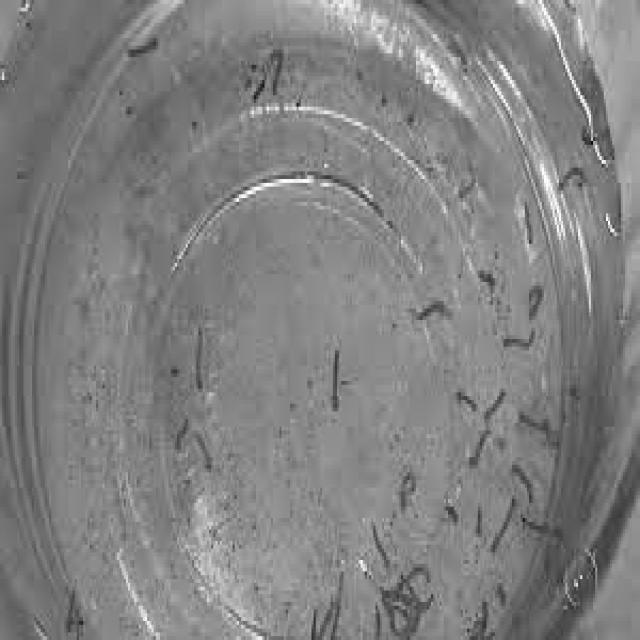larvas: (523, 504, 562, 544), (494, 494, 514, 552), (403, 575, 422, 628), (264, 44, 282, 99), (469, 426, 493, 466), (331, 576, 346, 640), (503, 326, 539, 351), (514, 456, 532, 506), (399, 468, 419, 513), (330, 345, 342, 416), (418, 300, 456, 322), (471, 602, 493, 640), (194, 324, 206, 392), (521, 410, 548, 440), (397, 584, 413, 634), (317, 595, 333, 640), (479, 270, 498, 306), (126, 38, 160, 58), (558, 168, 586, 192), (197, 428, 212, 471), (397, 598, 436, 614), (409, 565, 438, 584), (386, 589, 397, 637), (486, 393, 504, 421), (524, 203, 536, 244), (458, 392, 480, 414), (528, 286, 544, 316), (175, 418, 188, 454), (376, 526, 388, 564), (253, 76, 267, 102), (310, 606, 319, 640), (374, 608, 383, 637)
